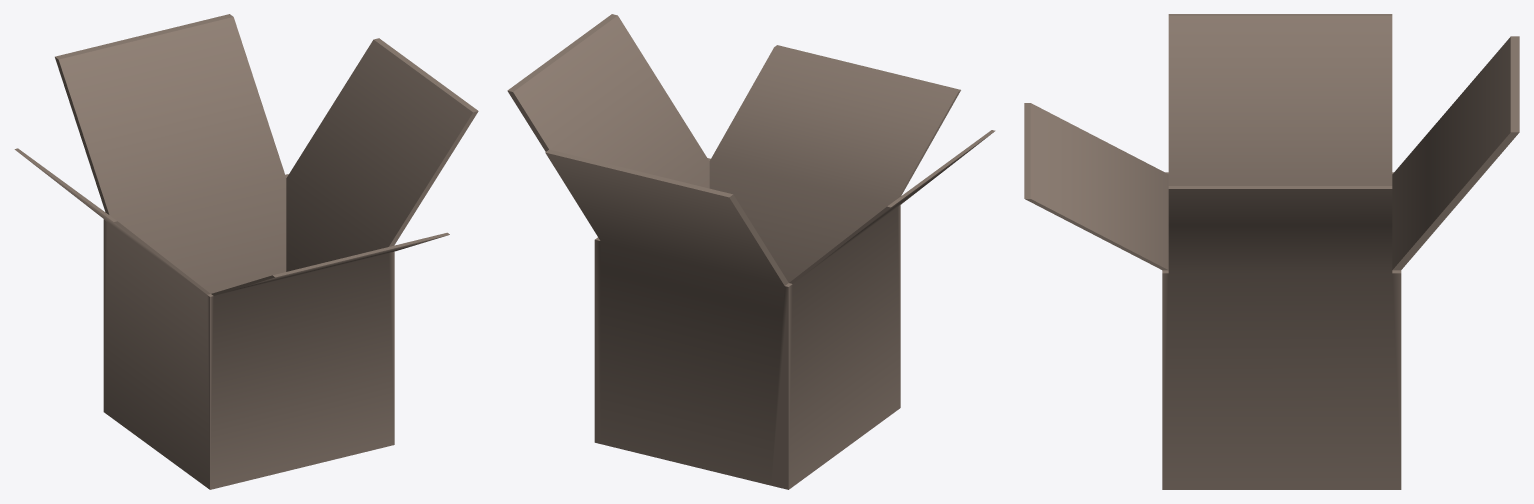
Rendered from openCardboardBox.fbx.
3 renders of one model, left to right at view 1: azimuth 30°, elevation 25°; view 2: azimuth 150°, elevation 25°; view 3: azimuth 270°, elevation 25°, orthographic. The views are drawn at different scales.
Parts seen in each view (by area): view 1: pCube1; view 2: pCube1; view 3: pCube1.
Boxes of the visible parts, x1,y1,x2,y2 form: pCube1: [14, 14, 478, 489]; pCube1: [507, 14, 995, 489]; pCube1: [1024, 14, 1519, 489].
Bounding box in the file's own units: 10.69 × 8.84 × 11.19.
